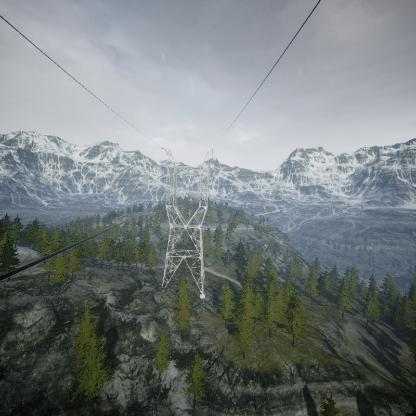tower: (154, 143, 216, 303)
